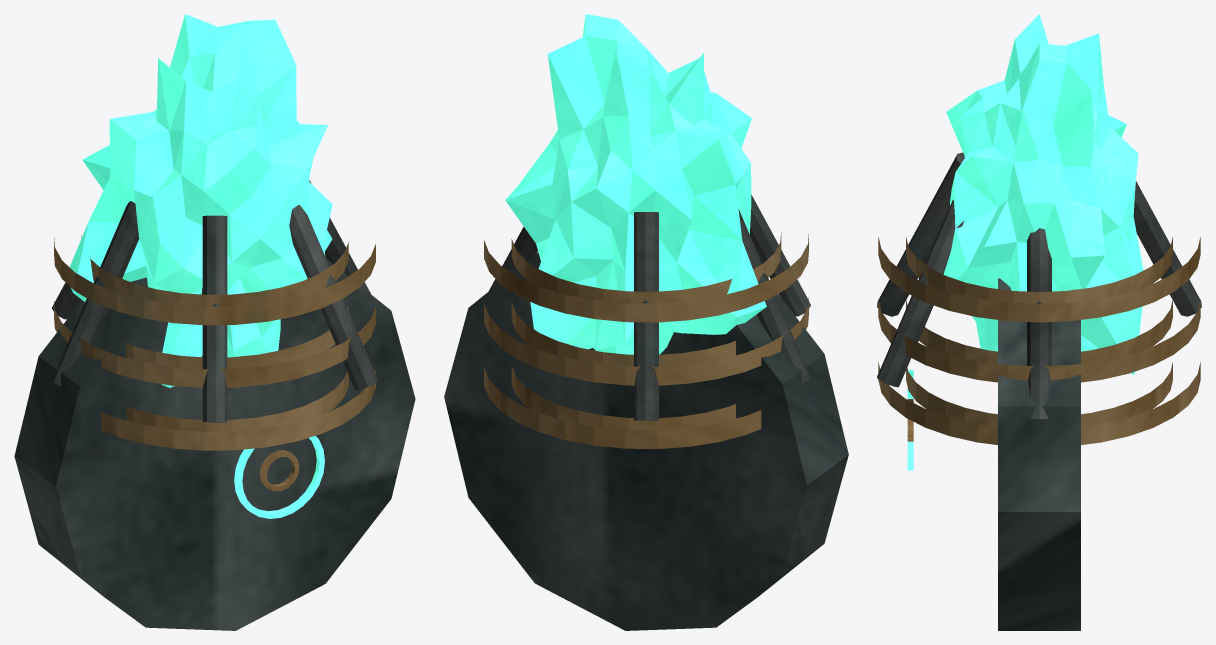
The model's file is 0993_offering_relic_18.glb.
The picture shows the model from 3 angles, left to right: view 1: azimuth 30°, elevation 25°; view 2: azimuth 150°, elevation 25°; view 3: azimuth 270°, elevation 25°; orthographic projection.
Parts seen in each view (by area): view 1: stone_dark, glow, brass, iron; view 2: stone_dark, glow, brass, iron; view 3: glow, brass, stone_dark, iron.
Boxes of the visible parts, left/top/right/bottom form: stone_dark: left=14, top=258, right=415, bottom=630; glow: left=69, top=14, right=332, bottom=518; brass: left=54, top=235, right=375, bottom=491; iron: left=52, top=180, right=377, bottom=422; stone_dark: left=444, top=252, right=848, bottom=630; glow: left=505, top=14, right=766, bottom=354; brass: left=484, top=232, right=808, bottom=448; iron: left=489, top=194, right=810, bottom=420; glow: left=907, top=14, right=1143, bottom=470; brass: left=878, top=237, right=1200, bottom=444; stone_dark: left=998, top=278, right=1080, bottom=630; iron: left=877, top=152, right=1201, bottom=418.
Bounding box in the file's own units: 0.9 × 1.4 × 0.7056.
Materials: 4 (4 with a texture image).
